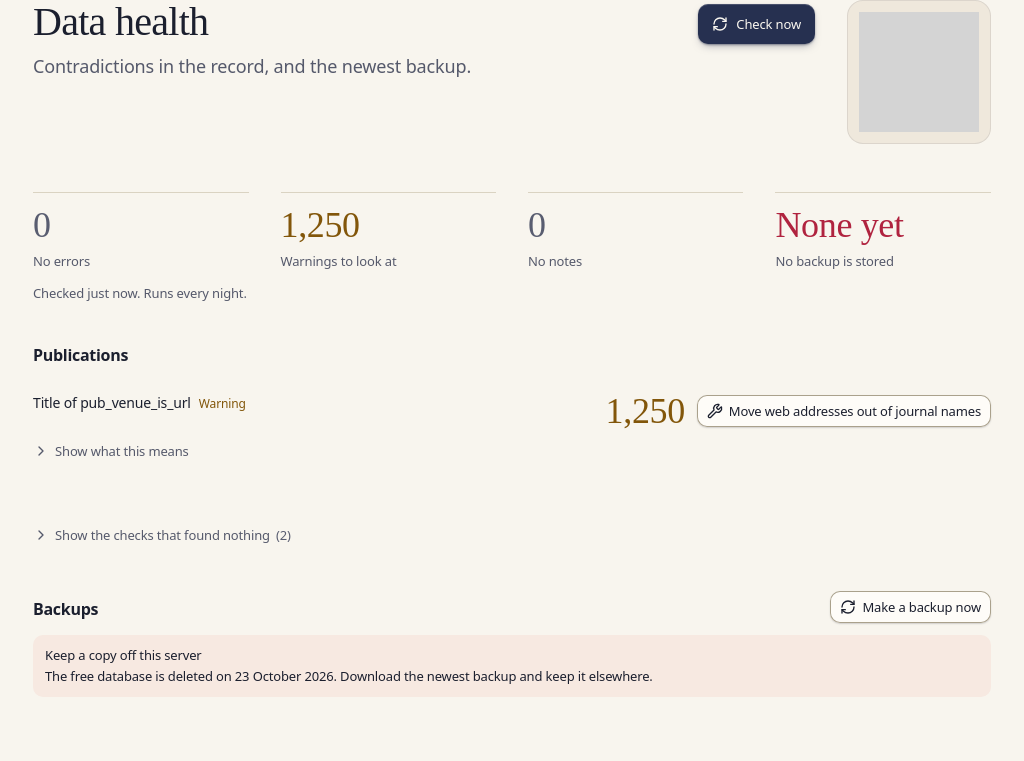
Test case: Data health › asks before a fix and says how many records it changes
Click the button "Move web addresses out of journal names".
click(844, 411)  # box 697,395 -> 991,427
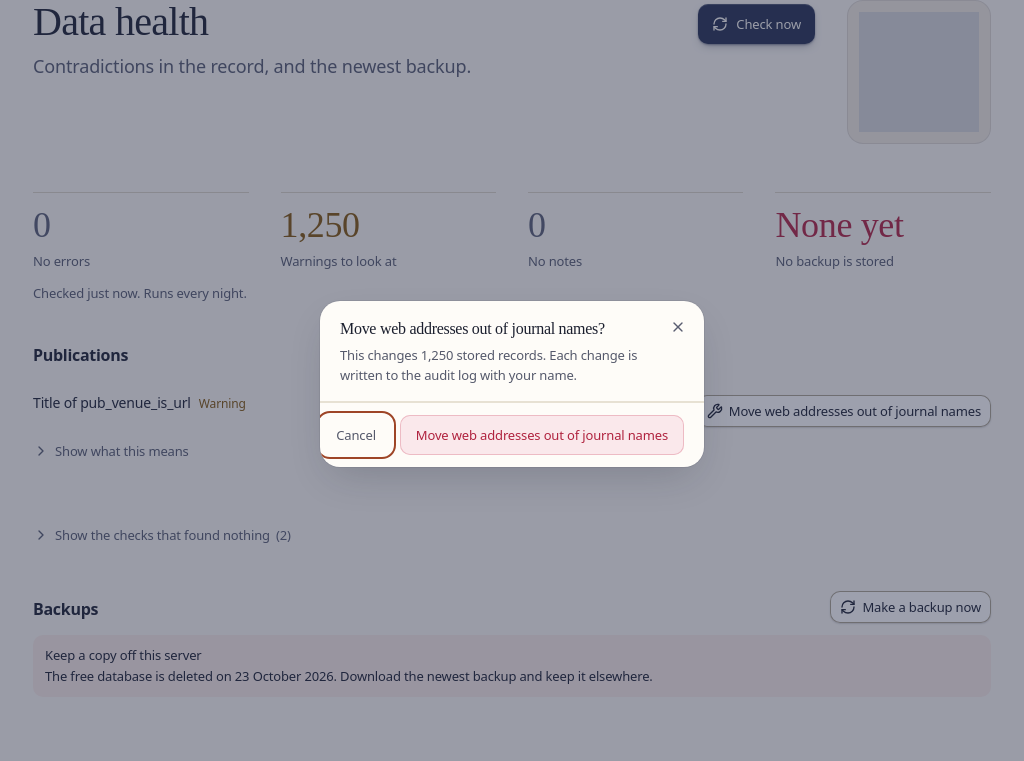
Result: the text "This changes 1,250 stored records" is shown at 340,346 -> 637,384
